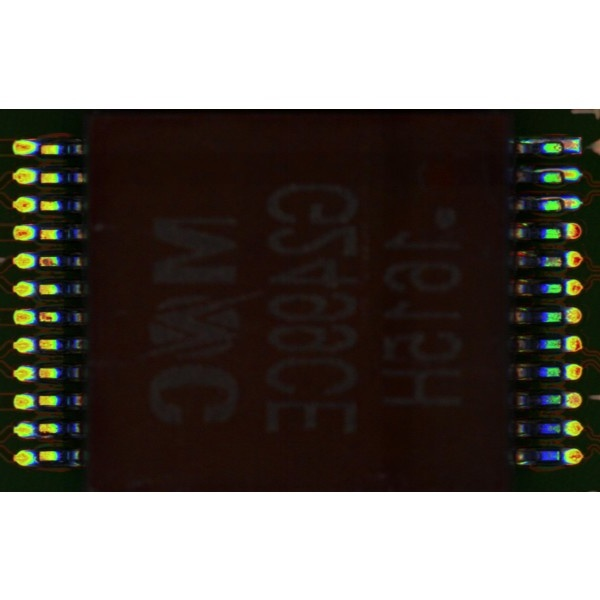Bad_podu: (556, 199, 567, 209), (555, 142, 567, 151), (556, 171, 568, 180)
Bad_qiaojiao: (519, 139, 562, 143), (530, 168, 561, 173), (533, 196, 561, 201)
